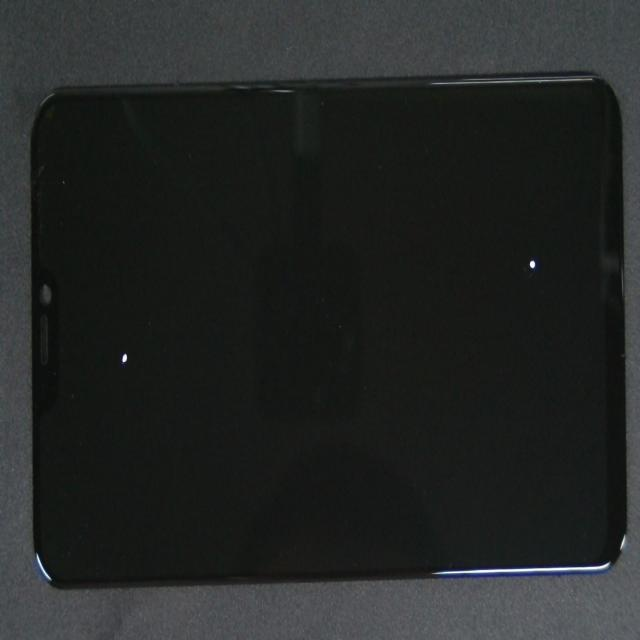stain: (272, 77, 640, 365), (86, 151, 177, 528)
